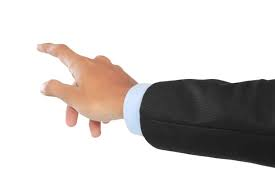pointing_gesture: (31, 41, 127, 139)
